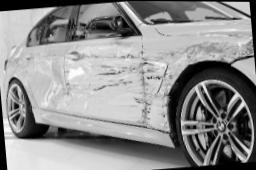Door: (25, 38, 149, 132)
Fender: (146, 31, 254, 84)
